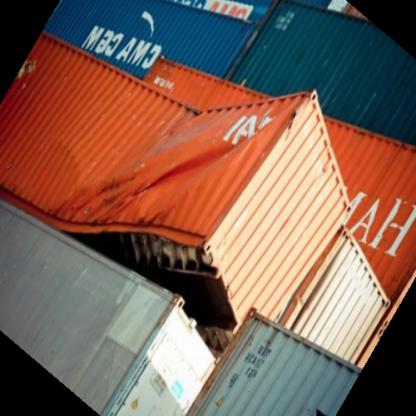Damage: (70, 76, 299, 254)
